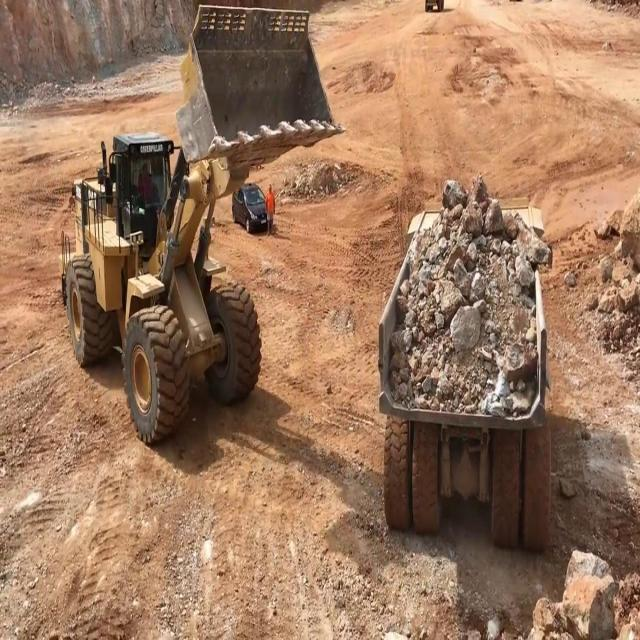buldozerpayloadergrader: (58, 2, 346, 444)
dump_truck: (378, 194, 552, 553)
